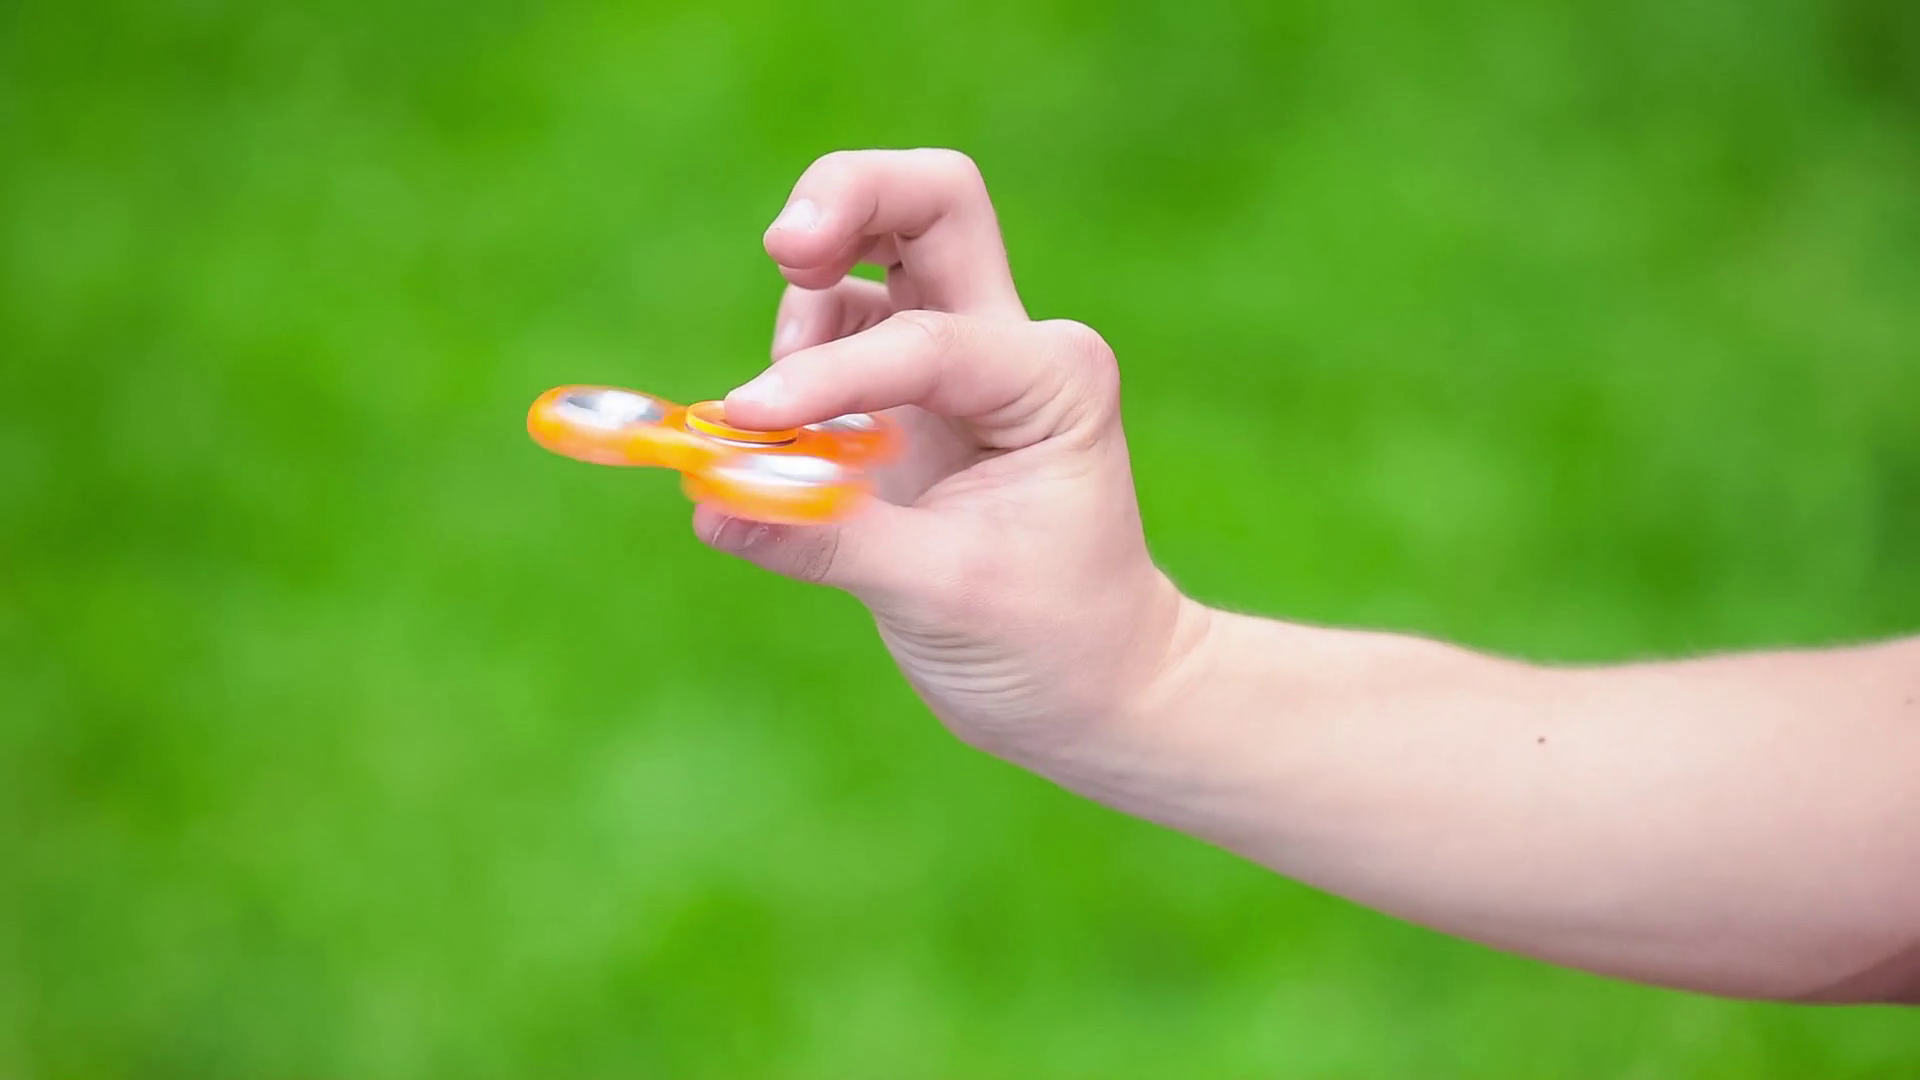fidget_spinner: (491, 256, 934, 576)
